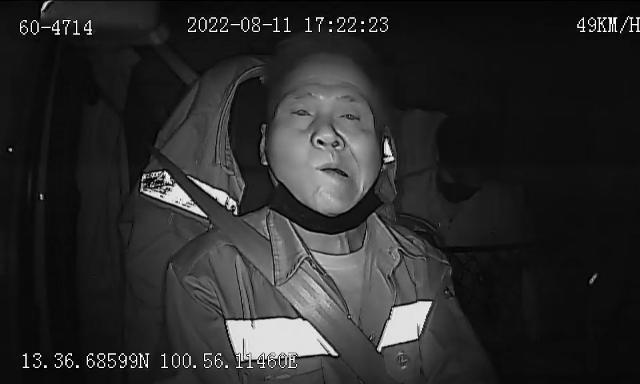SafeDriving: (332, 103, 367, 131), (284, 99, 318, 127)
Seatbelt: (170, 164, 380, 384)
